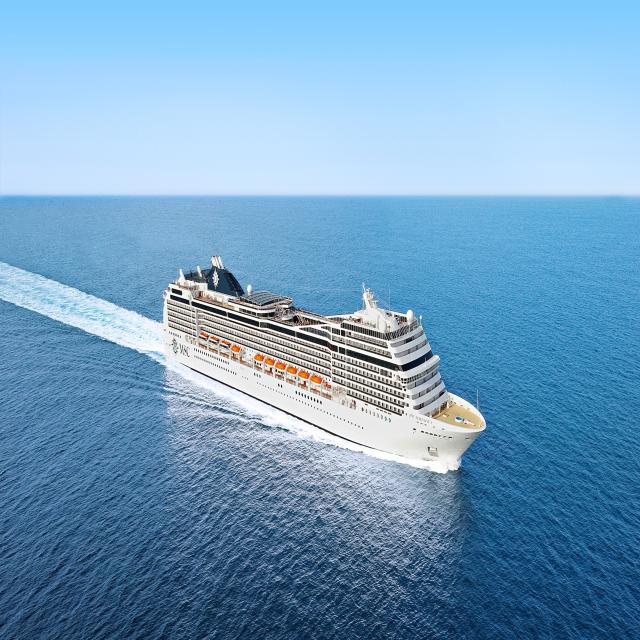passenger ship: (159, 251, 483, 473)
